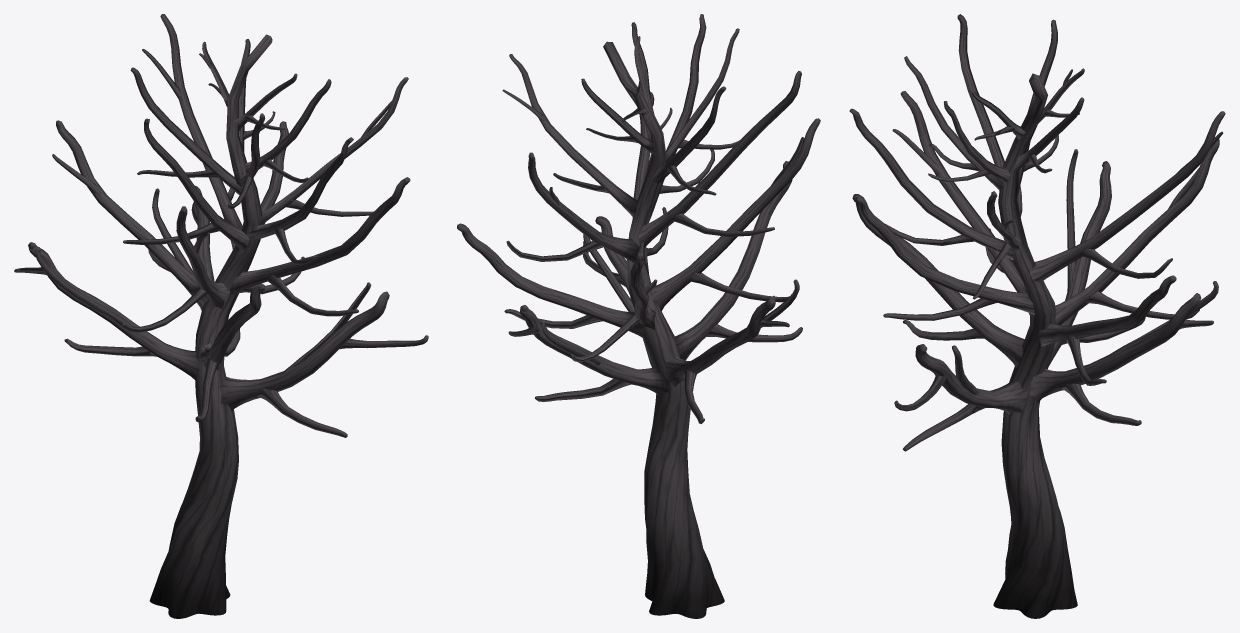
The model's file is DeadTree_1.gltf.
3 renders of one model, left to right at view 1: azimuth 30°, elevation 25°; view 2: azimuth 150°, elevation 25°; view 3: azimuth 270°, elevation 25°, orthographic. The views are drawn at different scales.
Visible parts, largest first — view 1: DeadTree_1; view 2: DeadTree_1; view 3: DeadTree_1.
Boxes of the visible parts, x1,y1,x2,y2 form: DeadTree_1: [14, 14, 428, 618]; DeadTree_1: [457, 14, 820, 618]; DeadTree_1: [849, 14, 1225, 618].
Size of the model in its own units: 6.15 by 9.5 by 5.75.
1 material, 1 textured.
